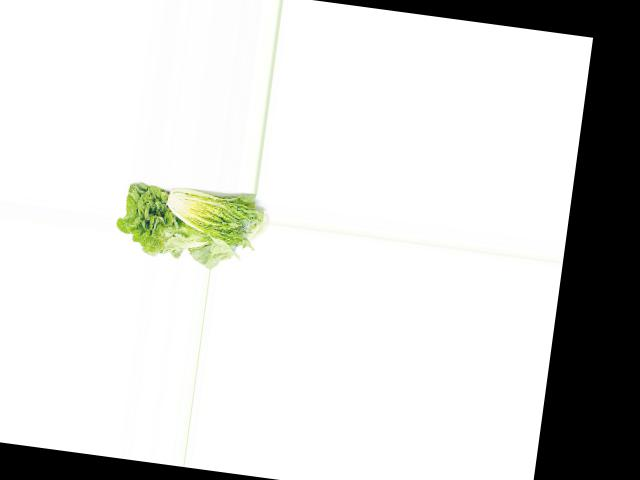lettuce: (115, 175, 212, 262)
